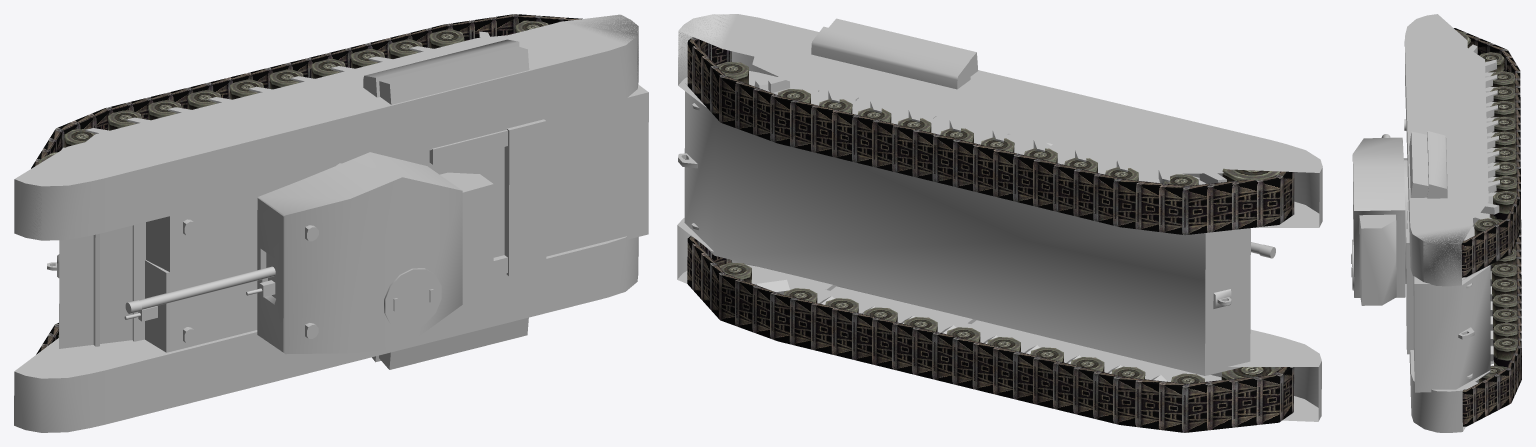
The model's file is churchill.obj.
The picture shows the model from 3 angles, left to right: view 1: azimuth 30°, elevation 25°; view 2: azimuth 150°, elevation 25°; view 3: azimuth 270°, elevation 25°; orthographic projection. The views are drawn at different scales.
Visible parts, largest first — view 1: studio_ref_fix_smd_mesh_04, studio_ref_fix_smd_mesh_06, studio_ref_fix_smd_mesh_05; view 2: studio_ref_fix_smd_mesh_04, studio_ref_fix_smd_mesh_06, studio_ref_fix_smd_mesh_05; view 3: studio_ref_fix_smd_mesh_04, studio_ref_fix_smd_mesh_06, studio_ref_fix_smd_mesh_05.
Boxes of the visible parts, <box> form: studio_ref_fix_smd_mesh_04: <box>14,14,648,432</box>; studio_ref_fix_smd_mesh_06: <box>31,14,582,354</box>; studio_ref_fix_smd_mesh_05: <box>38,20,548,337</box>; studio_ref_fix_smd_mesh_04: <box>677,14,1322,421</box>; studio_ref_fix_smd_mesh_06: <box>687,37,1294,432</box>; studio_ref_fix_smd_mesh_05: <box>716,62,1281,383</box>; studio_ref_fix_smd_mesh_04: <box>1351,14,1499,432</box>; studio_ref_fix_smd_mesh_06: <box>1454,28,1521,426</box>; studio_ref_fix_smd_mesh_05: <box>1457,31,1517,382</box>.
Bounding box in the file's own units: 296 × 130 × 92.32.
